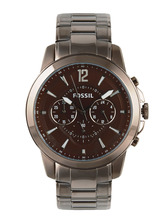watch: (23, 12, 149, 212)
